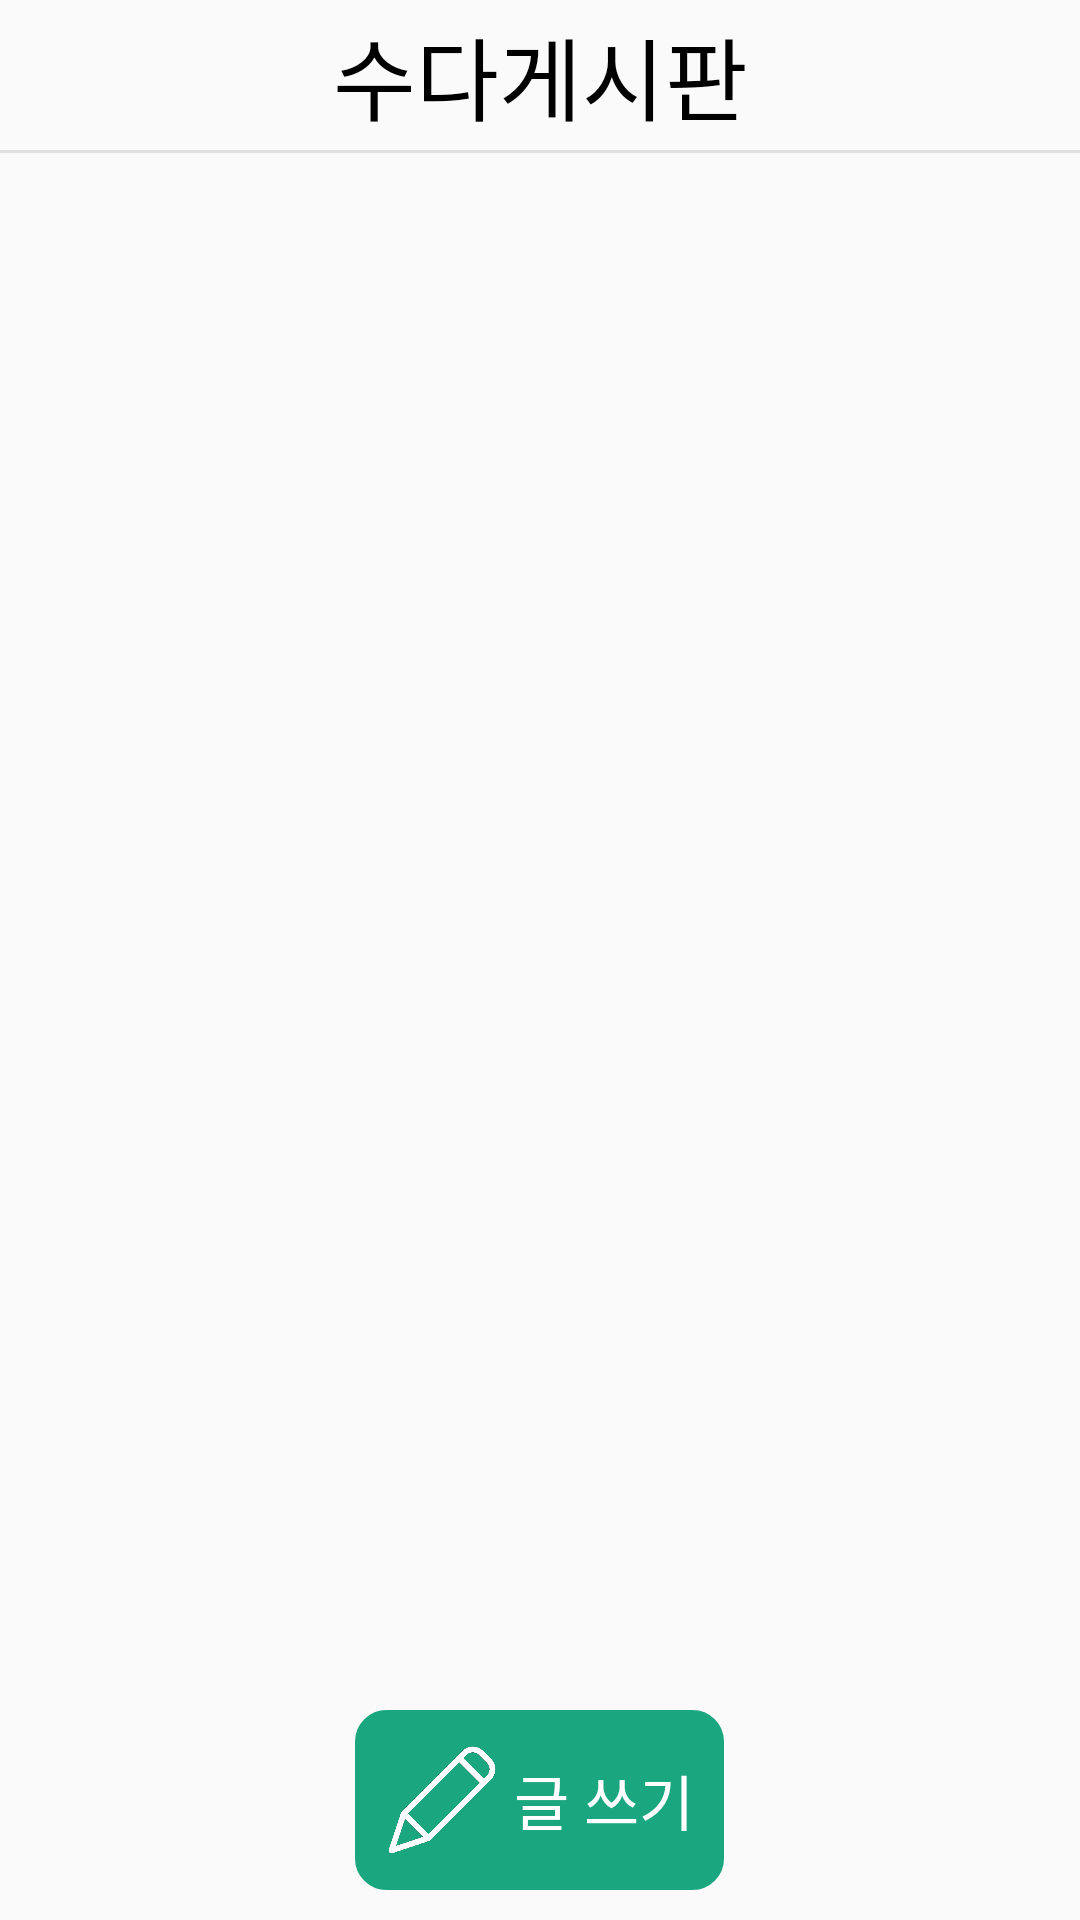

Point at icon controls on the screen. Image size 1080px x 1920px, points as (x=x, y=y).
pencil: (x=442, y=1799)
